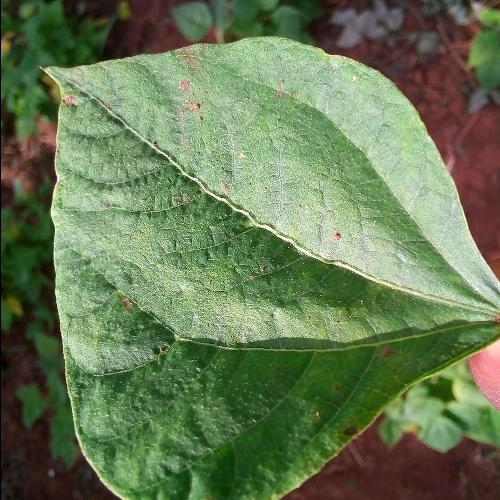hawar: (92, 286, 179, 371), (148, 51, 218, 152), (322, 328, 408, 393), (58, 71, 90, 113), (322, 416, 363, 446)
